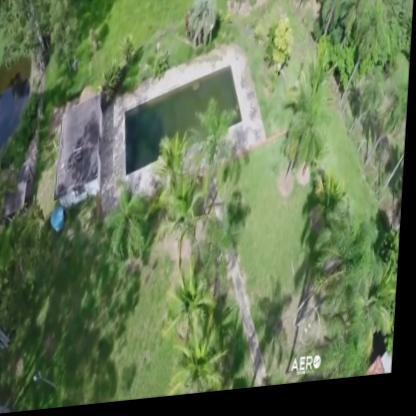agua: (146, 84, 231, 158)
